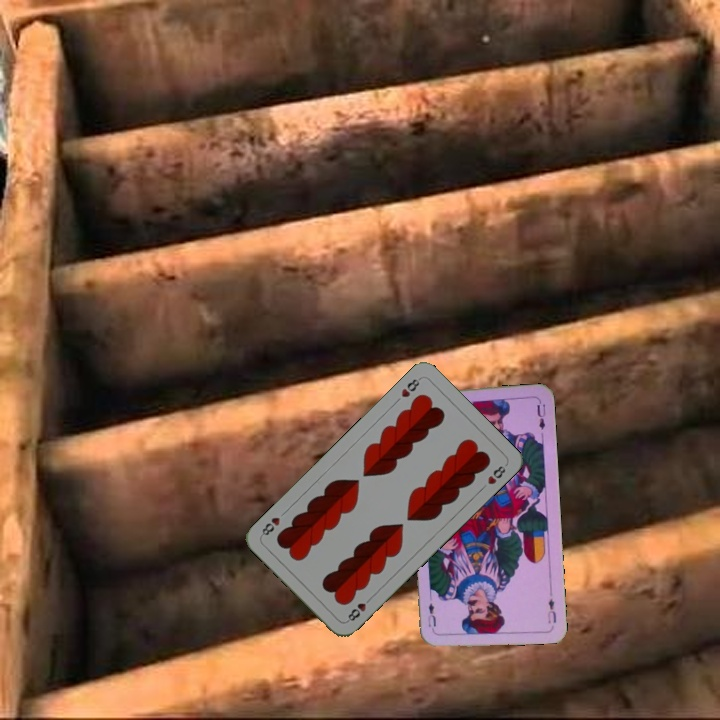EU: (544, 594, 559, 626)
H8: (343, 592, 375, 625), (397, 373, 423, 400)
